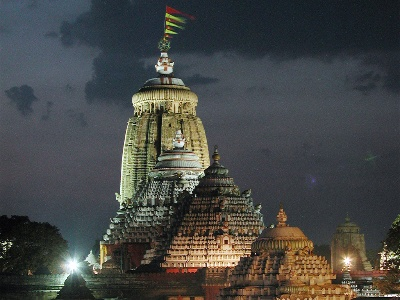amalaka: (121, 64, 211, 116)
gopuram: (113, 112, 217, 198)
